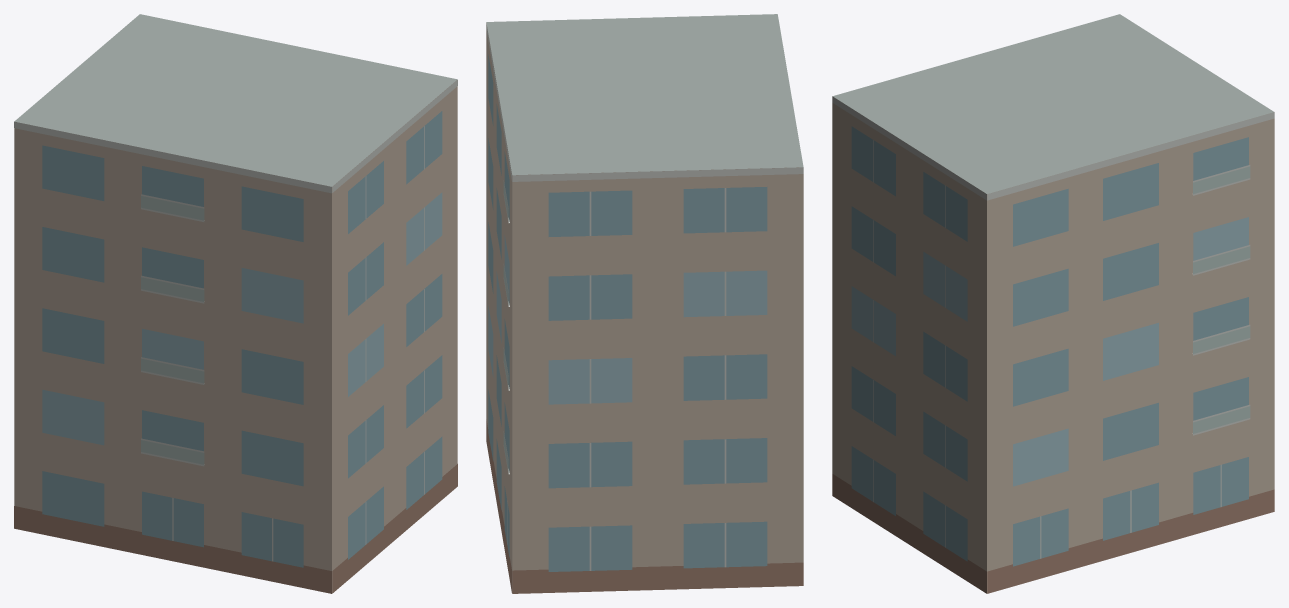
Rendered from survey-upis-32891680.glb.
3 views of the same model, side by side, from view 1: azimuth 30°, elevation 25°; view 2: azimuth 150°, elevation 25°; view 3: azimuth 270°, elevation 25° (orthographic). The views are drawn at different scales.
Parts seen in each view (by area): view 1: survey-upis-32891680.tmp; view 2: survey-upis-32891680.tmp; view 3: survey-upis-32891680.tmp.
Part boxes in pixels (left/top/right/bottom): survey-upis-32891680.tmp: left=14, top=14, right=457, bottom=593; survey-upis-32891680.tmp: left=486, top=14, right=803, bottom=593; survey-upis-32891680.tmp: left=832, top=14, right=1274, bottom=593.
Bounding box in the file's own units: 14.61 × 15.1 × 15.15.
